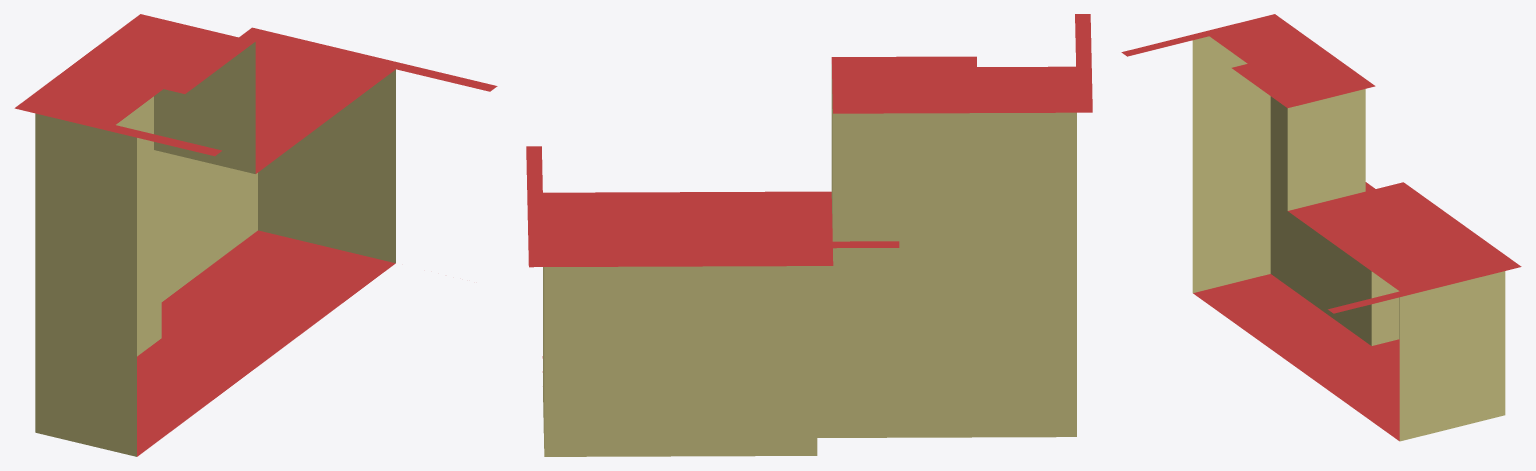
3 renders of one model, left to right at view 1: azimuth 30°, elevation 25°; view 2: azimuth 150°, elevation 25°; view 3: azimuth 270°, elevation 25°, orthographic. The views are drawn at different scales.
Bounding box in the file's own units: 19.48 × 16.74 × 11.67.
